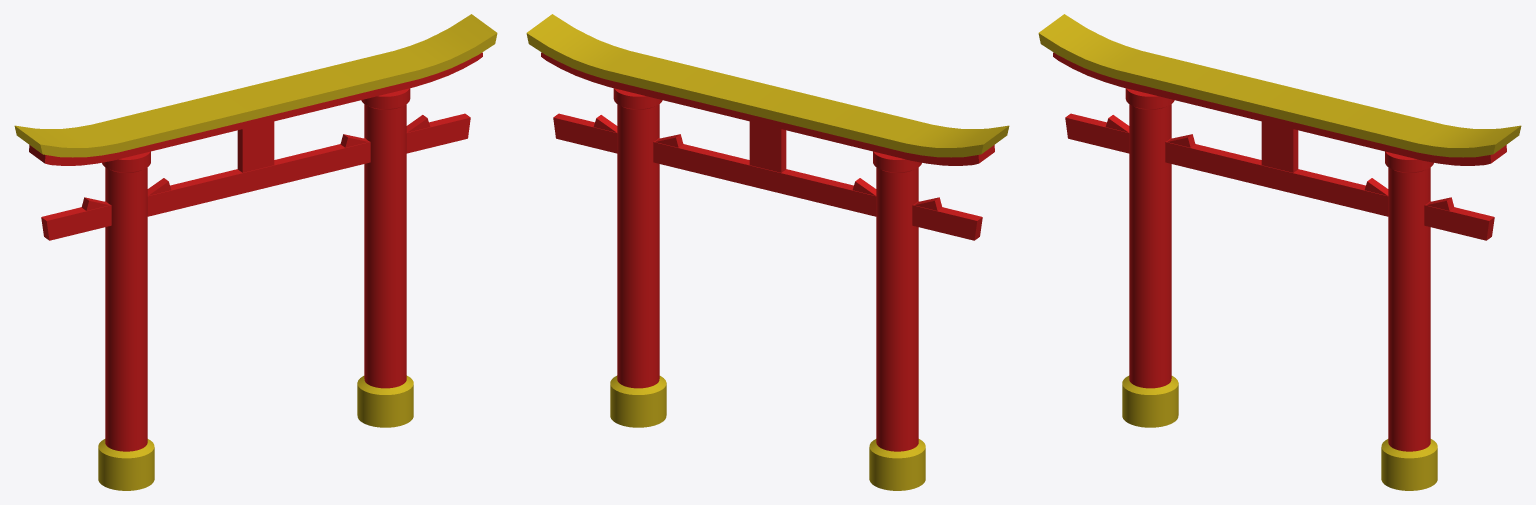
File: Japanese_Arch_Low.FBX
3 views of the same model, side by side, from view 1: azimuth 30°, elevation 25°; view 2: azimuth 150°, elevation 25°; view 3: azimuth 330°, elevation 25° (orthographic).
Visible parts, largest first — view 1: Techo, Columna_1, Columna_2, Forma; view 2: Techo, Columna_1, Columna_2, Forma; view 3: Techo, Columna_2, Columna_1, Forma.
Boxes of the visible parts, left/top/right/bottom form: Techo: left=14, top=14, right=497, bottom=165; Columna_1: left=357, top=88, right=413, bottom=427; Columna_2: left=98, top=151, right=154, bottom=490; Forma: left=41, top=113, right=470, bottom=240; Techo: left=526, top=14, right=1009, bottom=165; Columna_1: left=610, top=88, right=666, bottom=427; Columna_2: left=869, top=151, right=925, bottom=490; Forma: left=553, top=113, right=982, bottom=240; Techo: left=1038, top=14, right=1521, bottom=165; Columna_2: left=1122, top=88, right=1178, bottom=427; Columna_1: left=1381, top=151, right=1437, bottom=490; Forma: left=1065, top=113, right=1494, bottom=240.
Bounding box in the file's own units: 749 × 577 × 80.
